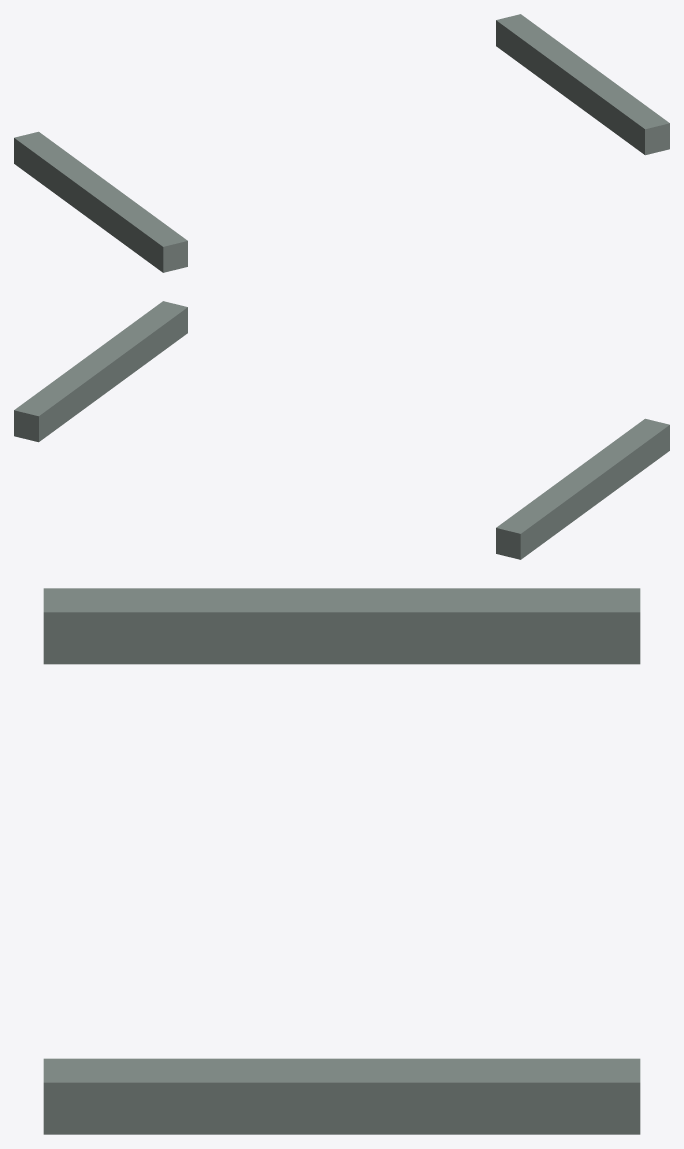
The model's file is Bumper.glb.
3 renders of one model, top to bottom at view 1: azimuth 30°, elevation 25°; view 2: azimuth 150°, elevation 25°; view 3: azimuth 270°, elevation 25°, orthographic. The views are drawn at different scales.
Parts seen in each view (by area): view 1: Cube.029; view 2: Cube.029; view 3: Cube.029.
Boxes of the visible parts, x1,y1,x2,y2 form: Cube.029: (14, 14, 669, 272); Cube.029: (14, 301, 669, 559); Cube.029: (43, 588, 640, 1134).
Size of the model in its own units: 0.1316 by 0.00645 by 0.0671.
Materials: 1 (1 with a texture image).
